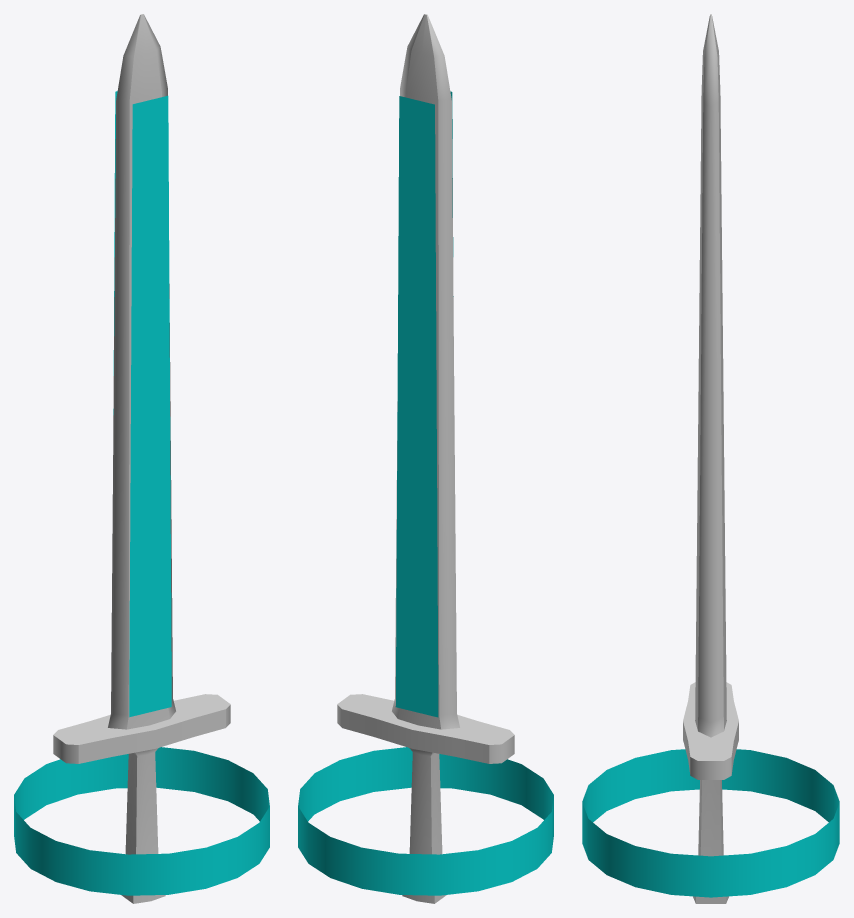
File: Sword.fbx
3 renders of one model, left to right at view 1: azimuth 30°, elevation 25°; view 2: azimuth 150°, elevation 25°; view 3: azimuth 270°, elevation 25°, orthographic.
Visible parts, largest first — view 1: Sword, SwordMagic_holo, SwordHandle_holo; view 2: Sword, SwordMagic_holo, SwordHandle_holo; view 3: Sword, SwordHandle_holo.
Part boxes in pixels (x1,y1,x2,y2): Sword: (53, 14, 230, 903); SwordMagic_holo: (113, 91, 171, 717); SwordHandle_holo: (14, 747, 269, 895); Sword: (337, 14, 514, 903); SwordMagic_holo: (395, 91, 453, 717); SwordHandle_holo: (298, 747, 553, 895); Sword: (683, 14, 738, 903); SwordHandle_holo: (582, 749, 839, 897).
Size of the model in its own units: 34.87 by 132 by 34.87.
